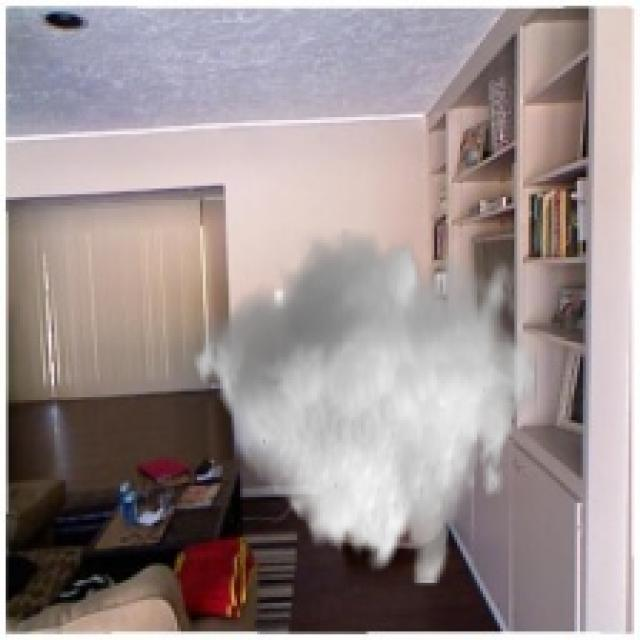smoke: (186, 228, 537, 586)
